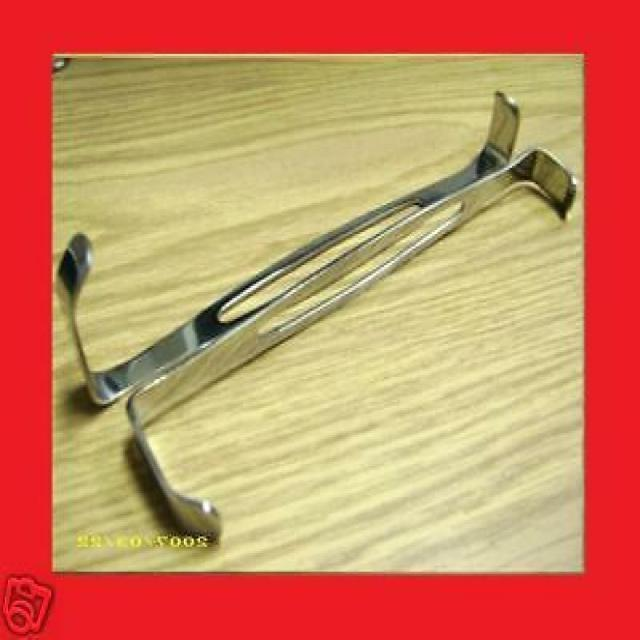Army_navy: (128, 141, 579, 545), (56, 80, 523, 417)
